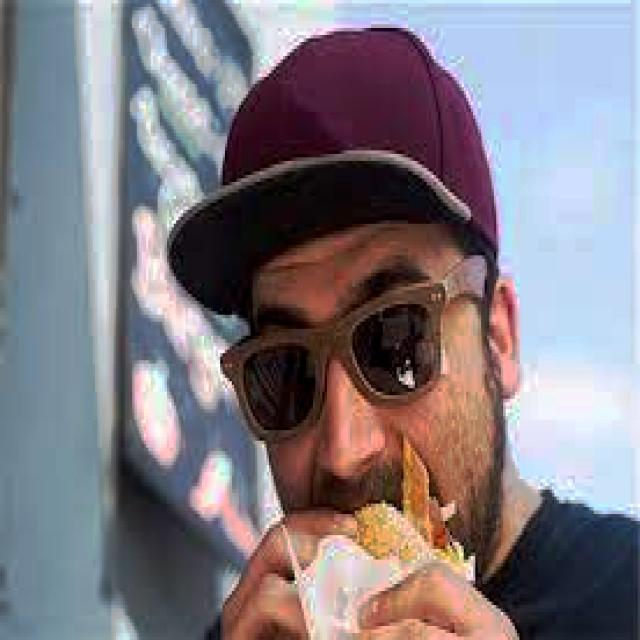TOPI: (160, 14, 501, 311)
